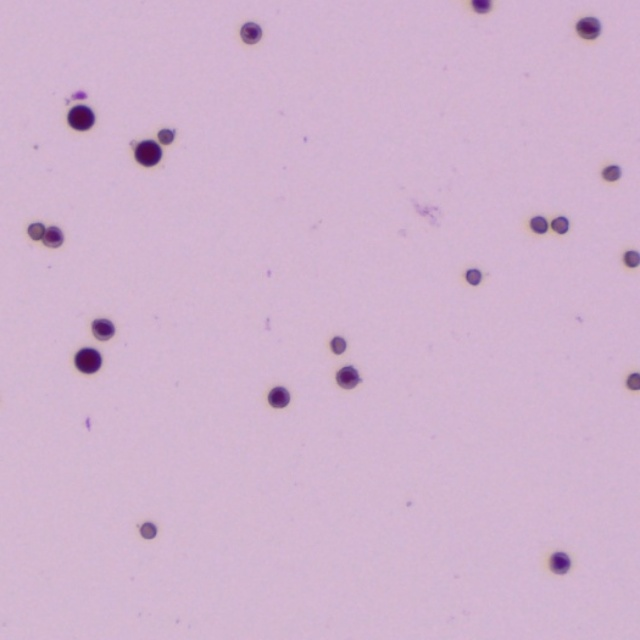intermediate: (336, 366, 360, 388), (92, 318, 114, 339), (268, 386, 289, 407), (240, 22, 261, 43), (550, 552, 569, 573), (41, 228, 61, 245), (471, 0, 491, 12), (552, 218, 567, 232)
non_viable: (576, 17, 599, 38), (602, 164, 619, 181), (157, 128, 174, 144), (139, 522, 156, 538), (623, 251, 639, 267), (465, 268, 481, 284), (29, 224, 46, 239), (330, 336, 345, 353), (532, 217, 546, 232), (626, 373, 639, 389)
viable: (74, 348, 100, 372), (135, 141, 159, 164), (69, 106, 92, 128)
